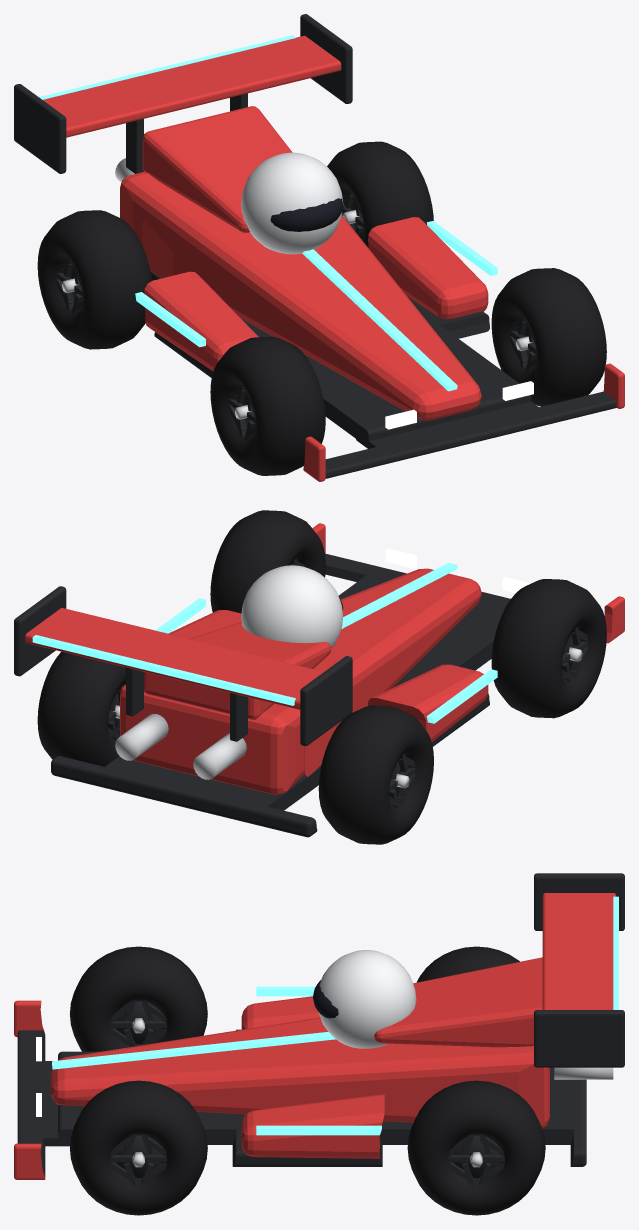
File: kart-fiber.glb
3 views of the same model, one above another, from view 1: azimuth 30°, elevation 25°; view 2: azimuth 150°, elevation 25°; view 3: azimuth 270°, elevation 25° (orthographic). The views are drawn at different scales.
Visible parts, largest first — view 1: Hull, Wheel_FL, Wheel_RL, Wheel_FR, Box.012, Hull.001, Box, Hull.003, Box.011, Wheel_RR, Hull.002, Helmet (+10 smaller); view 2: Hull, Box, Wheel_RL, Wheel_FL, Box.012, Wheel_RR, Wheel_FR, Helmet, Hull.001, Hull.002, Box.004, Box.013 (+11 smaller); view 3: Hull, Wheel_FR, Wheel_RR, Wheel_FL, Hull.001, Box.012, Box, Helmet, Hull.003, Box.009, Box.011, Box.014 (+10 smaller).
Boxes of the visible parts, left/top/right/bottom form: Hull: left=120, top=171, right=481, bottom=420; Wheel_FL: left=210, top=336, right=325, bottom=475; Wheel_RL: left=37, top=210, right=151, bottom=349; Wheel_FR: left=491, top=268, right=606, bottom=406; Box.012: left=43, top=35, right=341, bottom=137; Hull.001: left=142, top=106, right=292, bottom=232; Box: left=150, top=272, right=531, bottom=446; Hull.003: left=368, top=217, right=488, bottom=319; Box.011: left=325, top=391, right=616, bottom=478; Wheel_RR: left=327, top=141, right=433, bottom=247; Hull.002: left=142, top=220, right=258, bottom=371; Helmet: left=241, top=152, right=343, bottom=254; Hull: left=120, top=568, right=481, bottom=794; Box: left=51, top=575, right=504, bottom=837; Wheel_RL: left=318, top=705, right=433, bottom=844; Wheel_FL: left=491, top=579, right=606, bottom=718; Box.012: left=25, top=608, right=323, bottom=709; Wheel_RR: left=37, top=651, right=125, bottom=766; Wheel_FR: left=210, top=510, right=325, bottom=613; Helmet: left=241, top=565, right=343, bottom=648; Hull.001: left=144, top=622, right=331, bottom=719; Hull.002: left=304, top=664, right=488, bottom=776; Box.004: left=300, top=656, right=352, bottom=746; Box.013: left=32, top=635, right=295, bottom=705; Hull: left=50, top=1017, right=549, bottom=1128; Wheel_FR: left=70, top=1080, right=207, bottom=1215; Wheel_RR: left=407, top=1080, right=545, bottom=1215; Wheel_FL: left=70, top=946, right=207, bottom=1051; Hull.001: left=374, top=957, right=542, bottom=1047; Box.012: left=542, top=893, right=616, bottom=1009; Box: left=58, top=1029, right=586, bottom=1166; Helmet: left=318, top=950, right=416, bottom=1048; Hull.003: left=241, top=1082, right=496, bottom=1158; Box.009: left=534, top=1010, right=624, bottom=1067; Box.011: left=17, top=1029, right=70, bottom=1177; Box.014: left=52, top=1032, right=335, bottom=1069.
Bounding box in the file's own units: 2.67 × 1.51 × 4.16.
